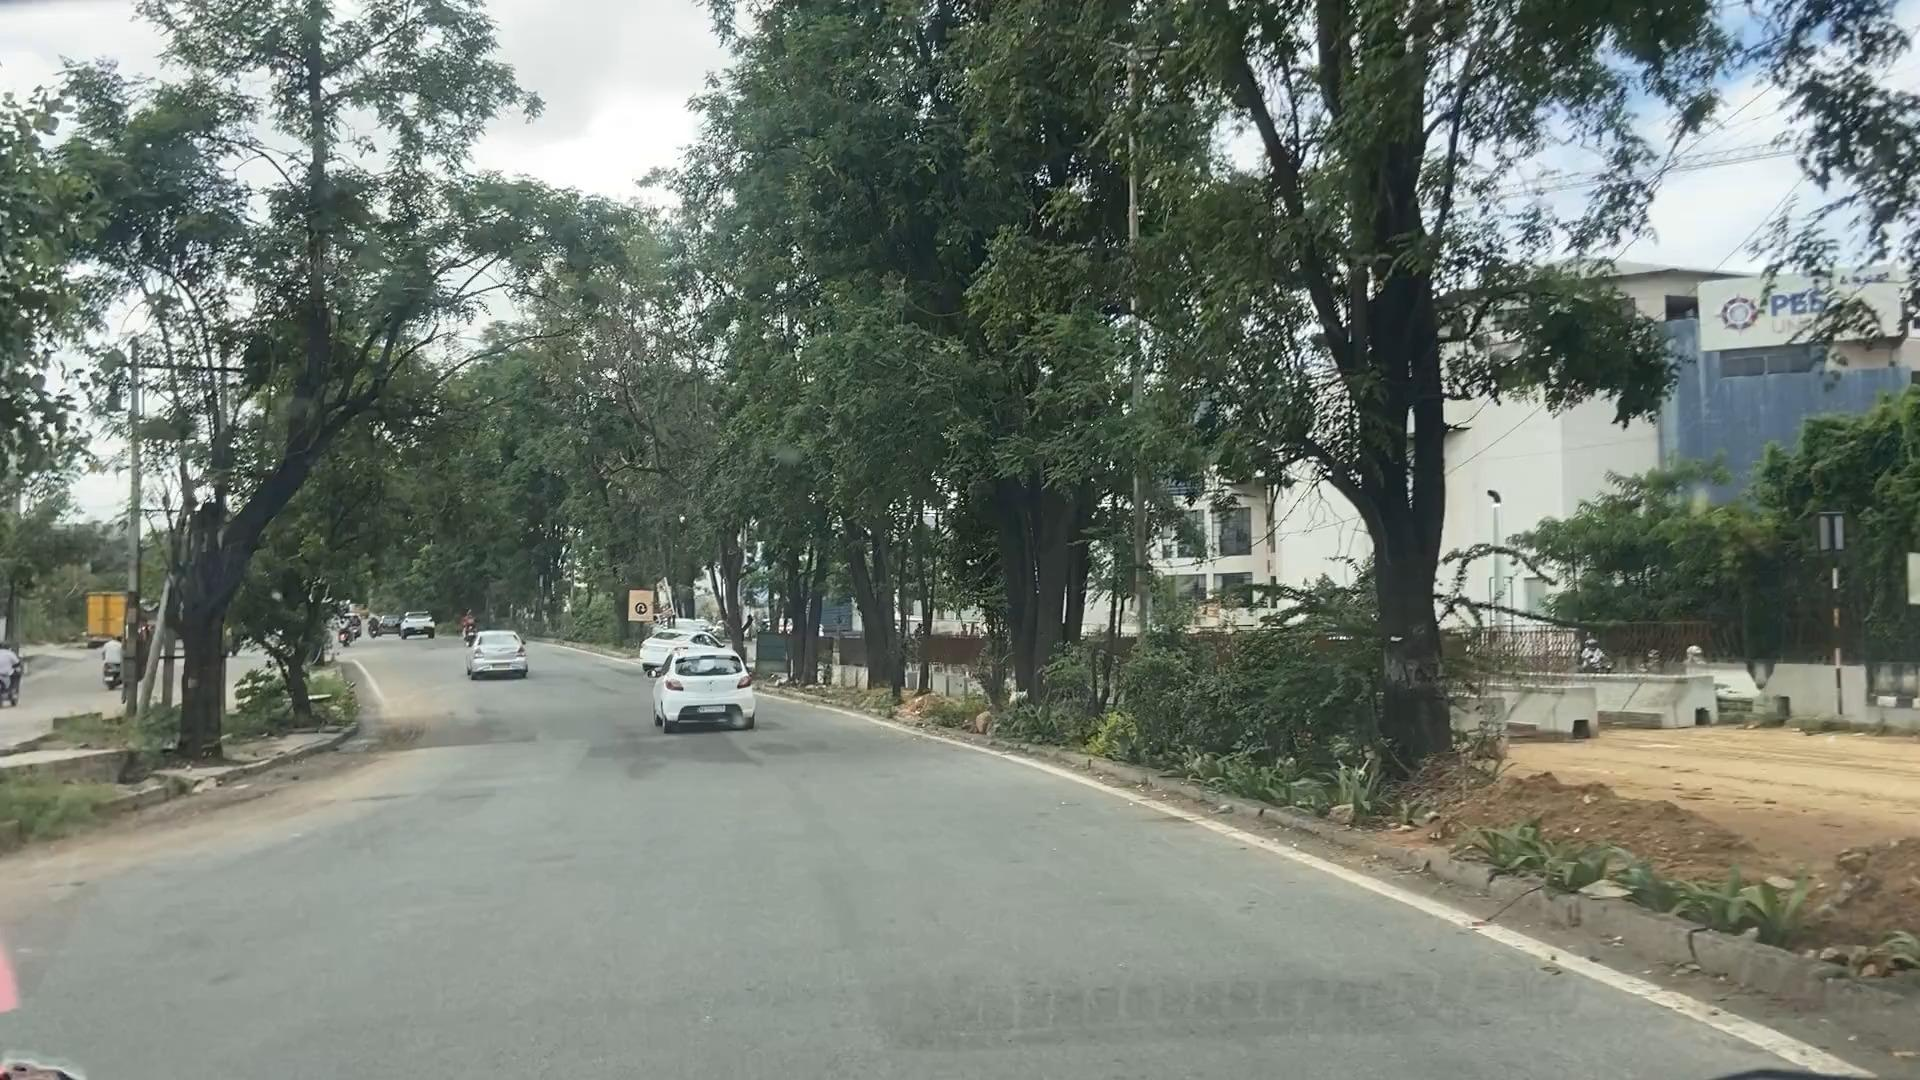LMV: (655, 650, 754, 724), (476, 634, 527, 679)
RoadDamages: (673, 728, 717, 767), (766, 728, 812, 766), (375, 709, 418, 746), (615, 767, 682, 791), (442, 712, 488, 746), (724, 740, 761, 773), (597, 735, 640, 760), (406, 615, 436, 637)
